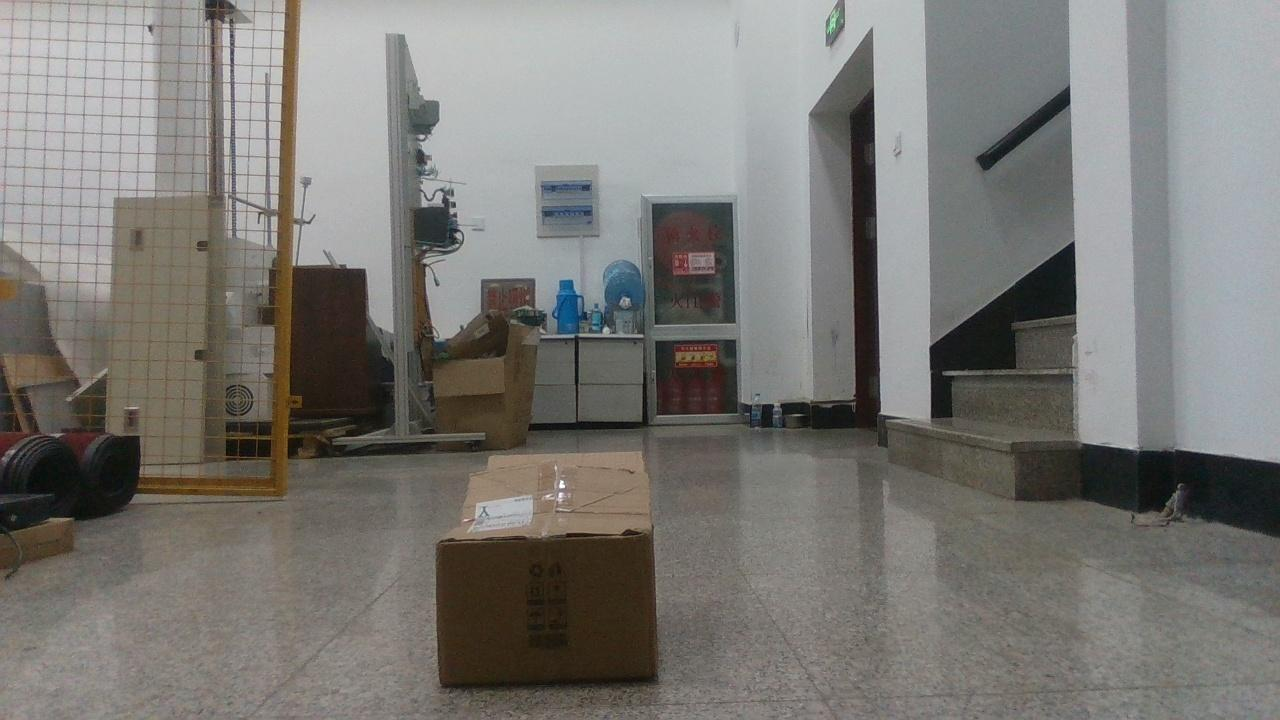box: (435, 452, 658, 685)
